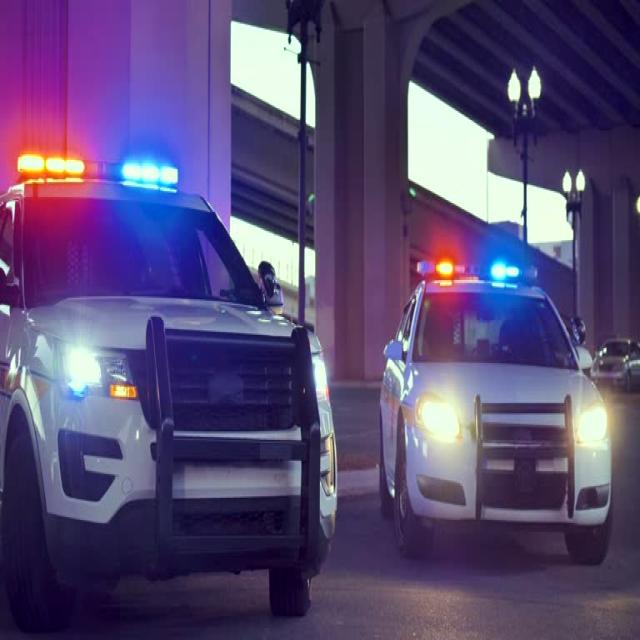Police: (1, 132, 338, 640), (371, 246, 633, 582)
